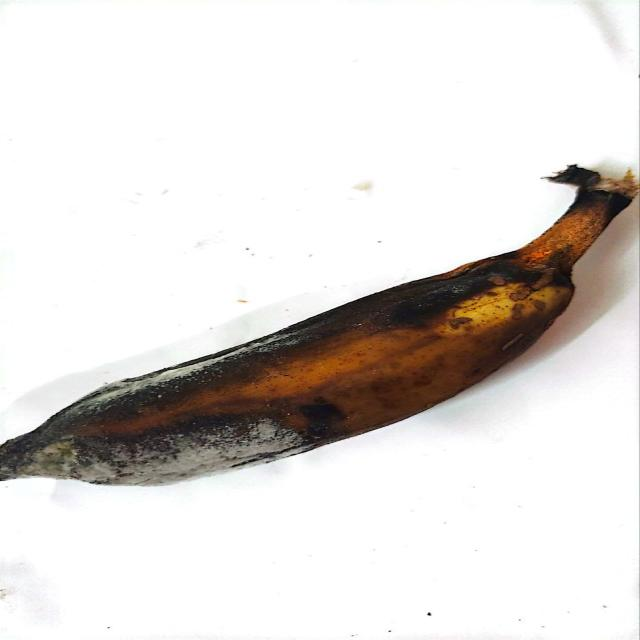rotten_banana: (0, 188, 630, 487)
